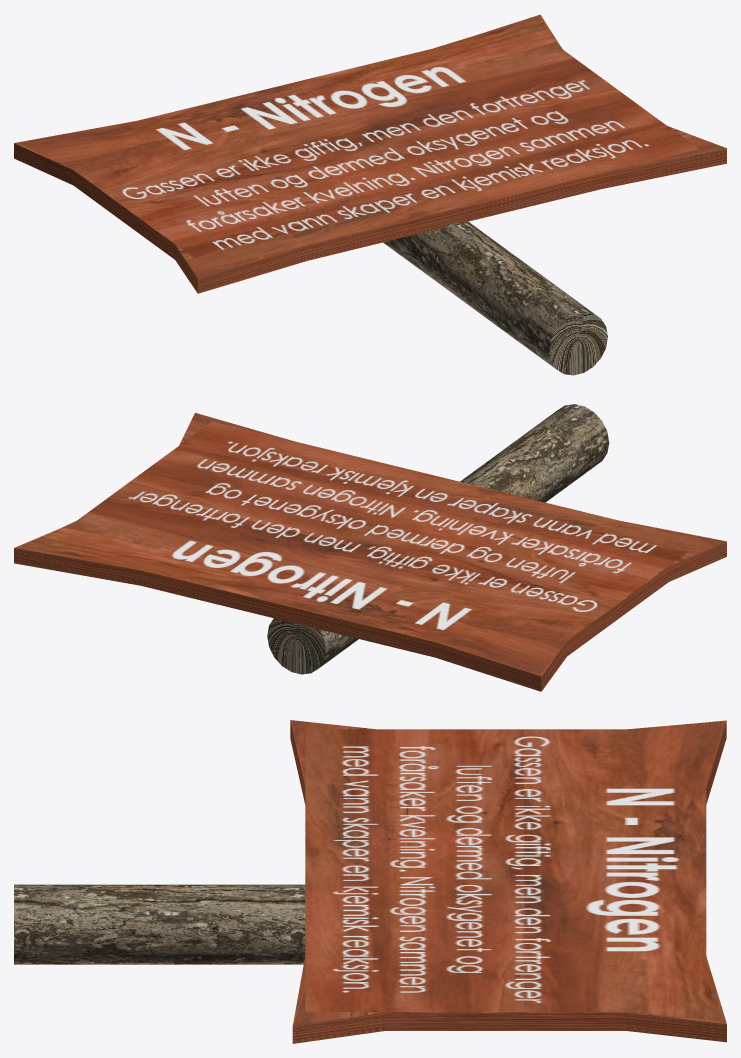
The model's file is SkiltN.FBX.
3 views of the same model, one above another, from view 1: azimuth 30°, elevation 25°; view 2: azimuth 150°, elevation 25°; view 3: azimuth 270°, elevation 25° (orthographic). The views are drawn at different scales.
Visible parts, largest first — view 1: Teksta, Cylinder001, Box002; view 2: Teksta, Box002, Cylinder001; view 3: Teksta, Cylinder001, Box002.
Part boxes in pixels (left/top/right/bottom): Teksta: left=17, top=16, right=698, bottom=268; Cylinder001: left=383, top=221, right=607, bottom=375; Box002: left=14, top=14, right=726, bottom=293; Teksta: left=20, top=421, right=702, bottom=674; Box002: left=14, top=412, right=726, bottom=691; Cylinder001: left=267, top=404, right=609, bottom=674; Teksta: left=305, top=721, right=724, bottom=1020; Cylinder001: left=14, top=884, right=305, bottom=964; Box002: left=290, top=720, right=726, bottom=1043.
Bounding box in the file's own units: 108 × 14.69 × 107.
3 materials, 3 textured.
